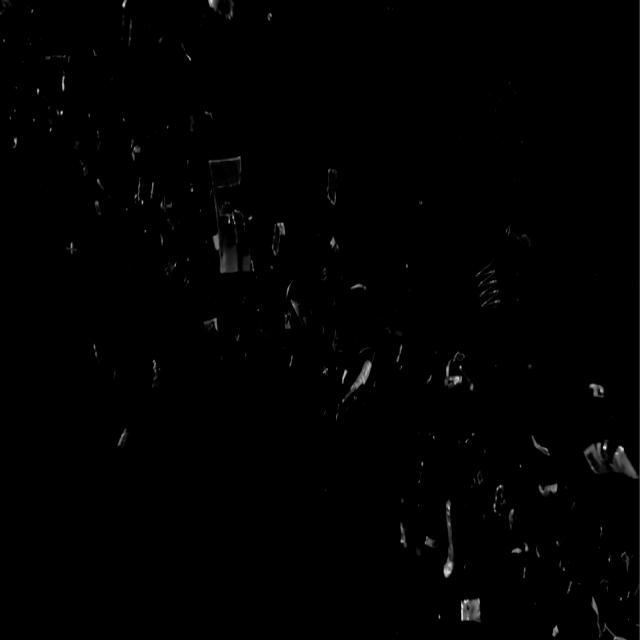large_debris: (205, 139, 265, 294), (581, 419, 639, 501), (530, 424, 571, 516), (341, 343, 379, 424), (40, 44, 76, 128), (585, 586, 640, 640), (444, 343, 478, 408), (454, 581, 492, 638), (437, 494, 459, 586), (383, 312, 414, 376), (144, 355, 178, 412), (91, 340, 126, 395), (286, 284, 315, 348), (199, 0, 250, 35), (491, 479, 523, 533), (480, 262, 507, 325), (389, 510, 418, 564), (319, 156, 344, 217), (586, 373, 613, 414), (500, 221, 538, 250), (270, 212, 290, 263), (134, 170, 159, 207), (201, 319, 224, 352)
